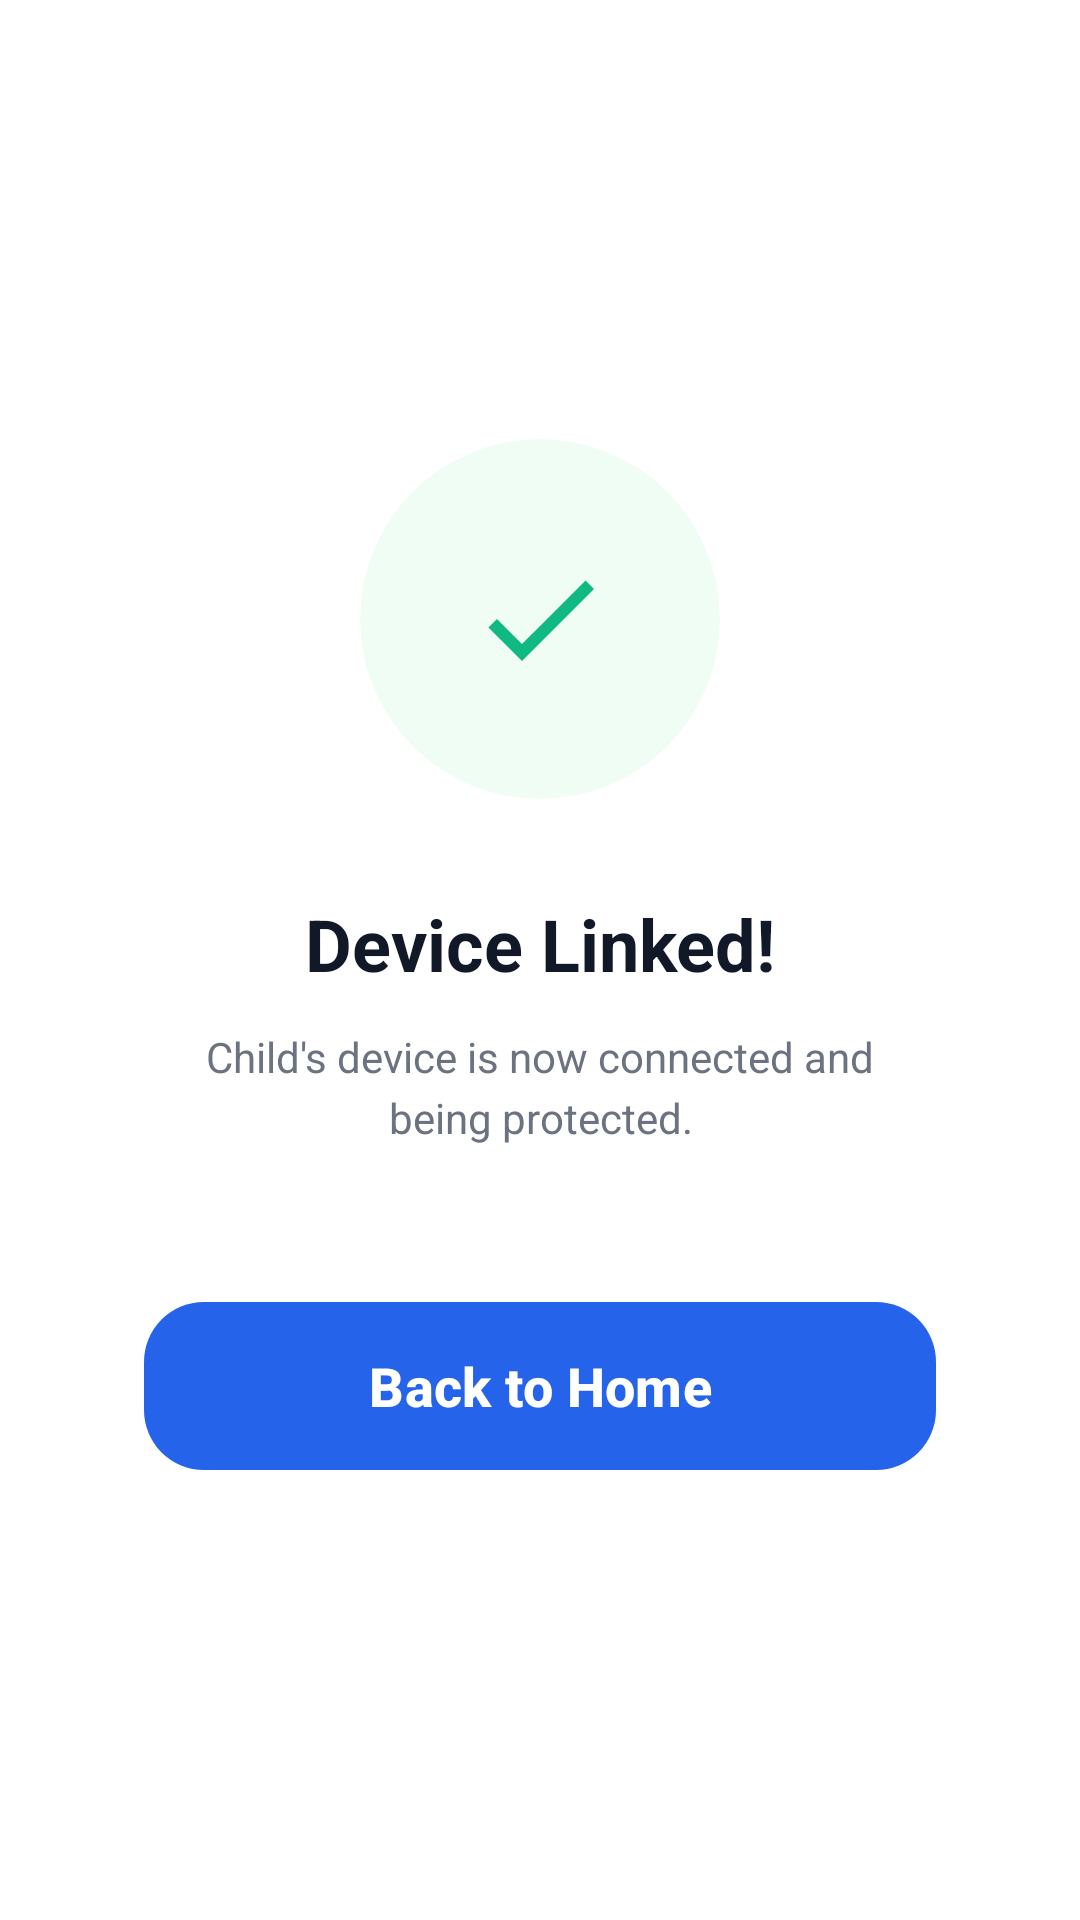

Screen size 1080x1920. Icon name, then its box in pixels as [x1,y1,x2,y2]:
check: [488,580,594,661]
